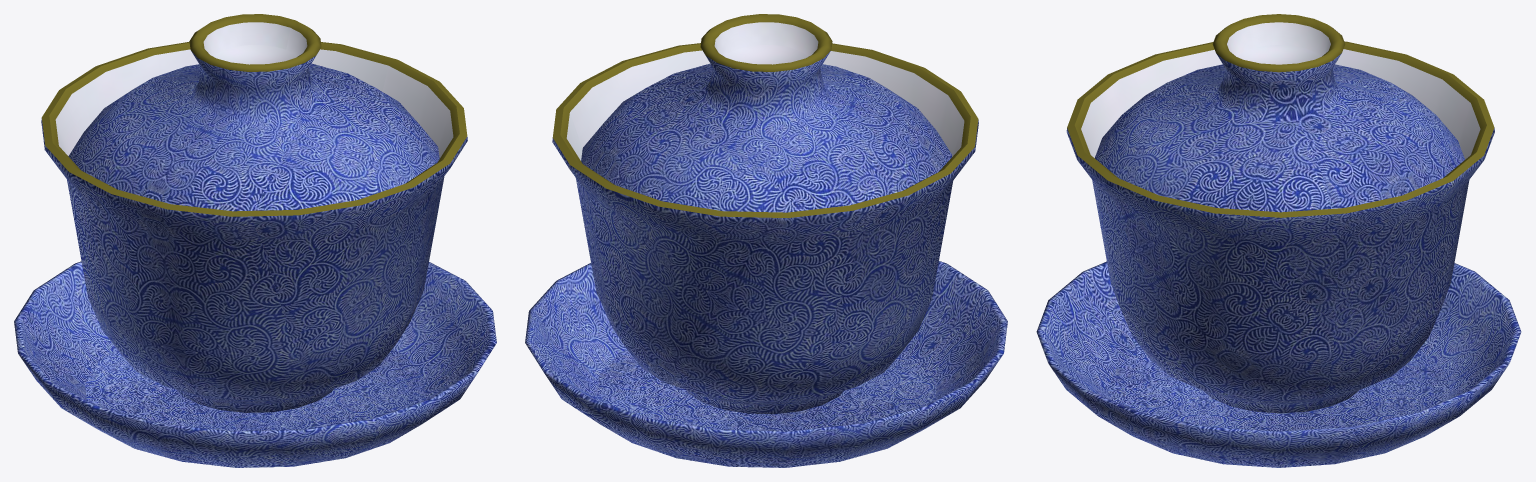
The model's file is wan05_01.FBX.
3 renders of one model, left to right at view 1: azimuth 30°, elevation 25°; view 2: azimuth 150°, elevation 25°; view 3: azimuth 270°, elevation 25°, orthographic.
Visible parts, largest first — view 1: pCylinder5, pCylinder6, pCylinder7; view 2: pCylinder5, pCylinder6, pCylinder7; view 3: pCylinder5, pCylinder6, pCylinder7.
Part boxes in pixels (x1,y1,x2,y2): pCylinder5: (41,41,467,412); pCylinder6: (68,14,439,211); pCylinder7: (14,261,496,467); pCylinder5: (552,43,978,414); pCylinder6: (581,14,951,212); pCylinder7: (525,261,1007,467); pCylinder5: (1066,41,1494,413); pCylinder6: (1095,14,1464,212); pCylinder7: (1036,261,1521,467).
Bounding box in the file's own units: 119 × 101 × 119.
